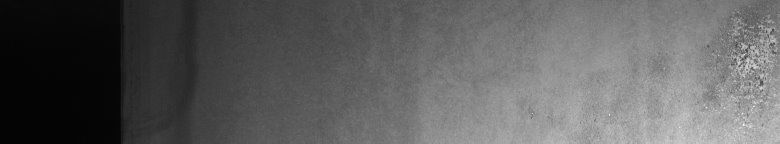hc: (704, 12, 776, 128)
